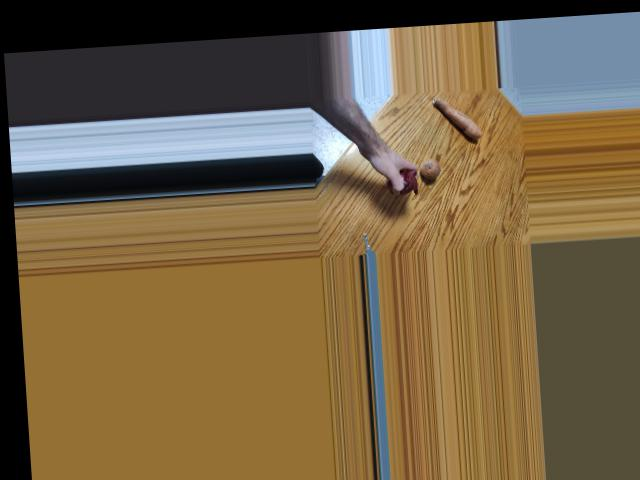onion: (412, 151, 439, 178)
